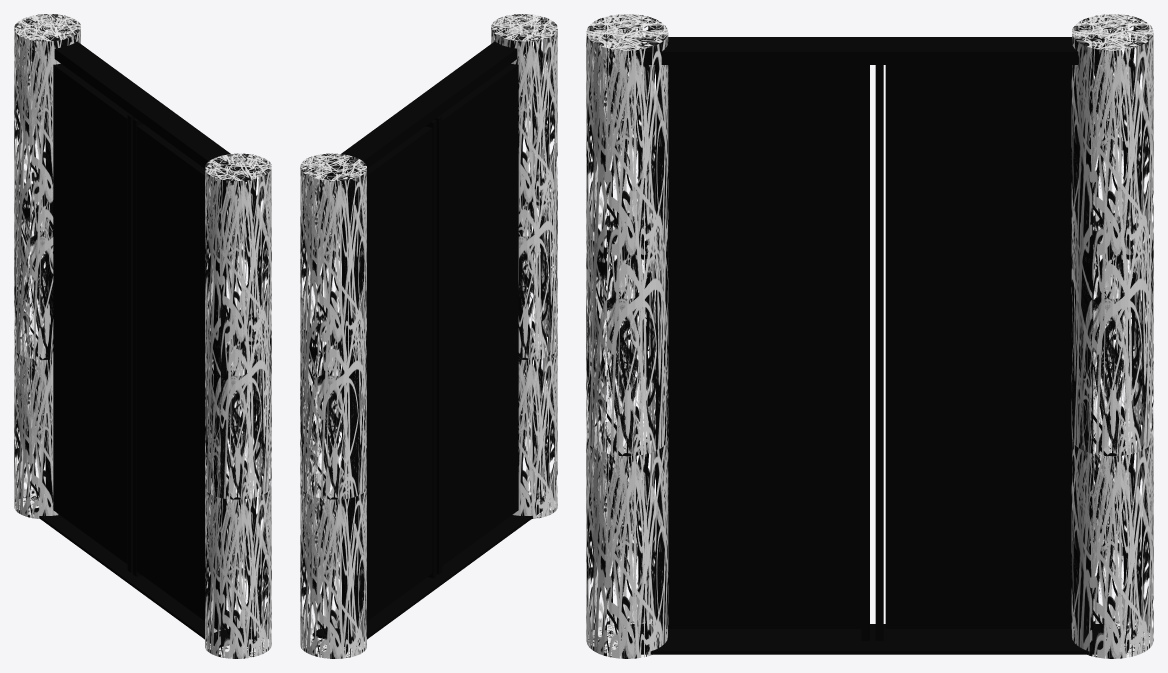
File: elevator.gltf
The picture shows the model from 3 angles, left to right: view 1: azimuth 30°, elevation 25°; view 2: azimuth 150°, elevation 25°; view 3: azimuth 270°, elevation 25°; orthographic projection. The views are drawn at different scales.
Parts seen in each view (by area): view 1: Cube.002, Cube, Cylindre, Cylindre.001, Cube.003, Cube.001, Cube.005, Cube.004; view 2: Cube, Cube.002, Cylindre.001, Cylindre, Cube.003, Cube.001, Cube.004, Cube.005; view 3: Cube, Cube.002, Cylindre, Cylindre.001, Cube.003, Cube.001, Cube.004, Cube.005.
Boxes of the visible parts, x1,y1,x2,y2 form: Cube.002: (45,59,129,564); Cube: (136,124,226,630); Cylindre: (205,153,271,658); Cylindre.001: (14,14,80,518); Cube.003: (42,34,252,185); Cube.001: (31,507,259,647); Cube.005: (127,114,135,572); Cube.004: (133,118,143,576); Cube: (440,63,522,565); Cube.002: (342,126,432,632); Cylindre.001: (300,153,366,658); Cylindre: (491,14,557,518); Cube.003: (320,32,530,184); Cube.001: (312,506,542,646); Cube.004: (434,116,442,574); Cube.005: (426,120,436,578); Cube: (656,65,861,628); Cube.002: (885,65,1093,628); Cylindre: (586,14,668,658); Cylindre.001: (1071,14,1153,658); Cube.003: (631,37,1104,64); Cube.001: (631,624,1103,654); Cube.004: (861,65,869,640); Cube.005: (875,65,883,640).
Bounding box in the file's own units: 0.451 × 3.51 × 2.95.
2 materials, 1 textured.
